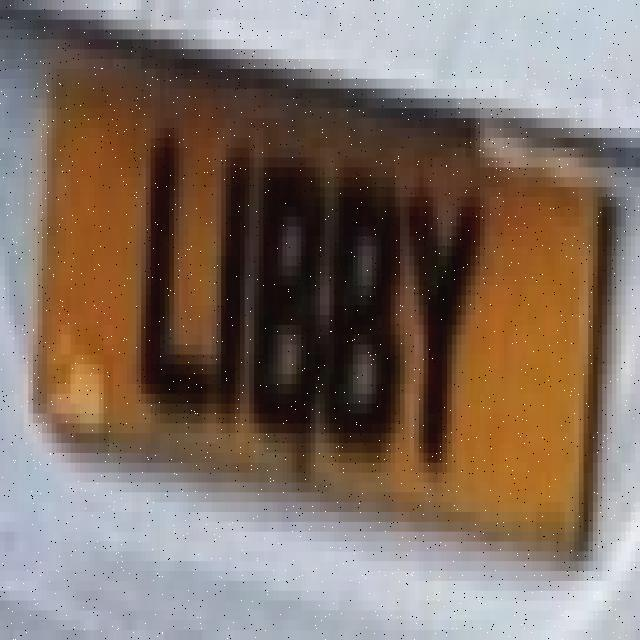LicensePlate: (31, 4, 627, 602)
